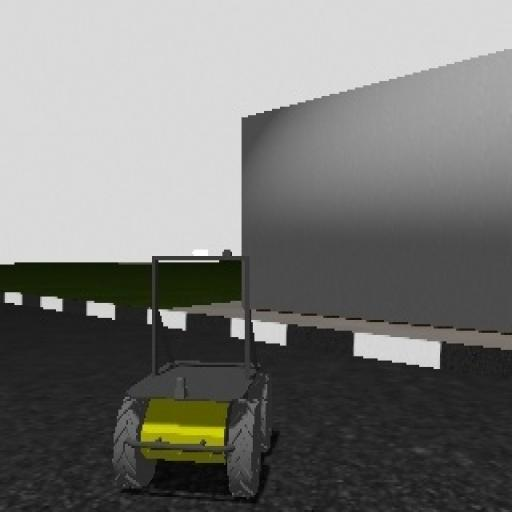huskya200: (109, 241, 272, 510)
